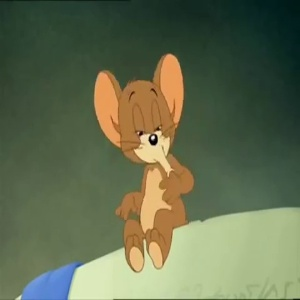Jerry: (80, 53, 202, 170)
